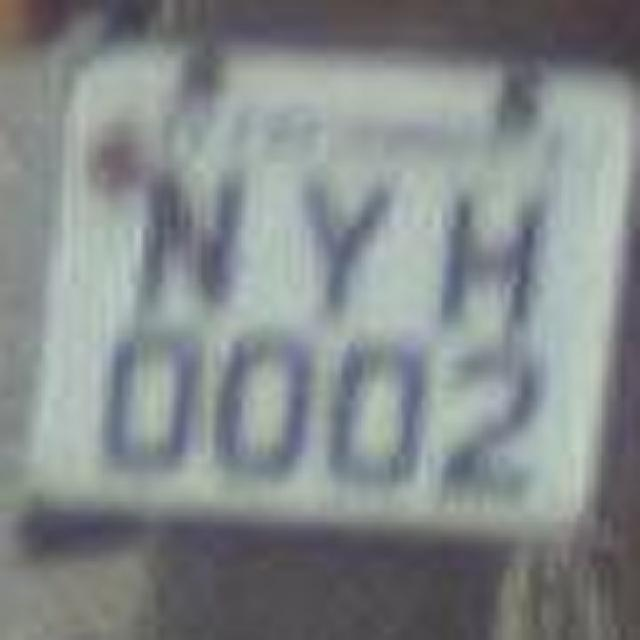0: (96, 315, 216, 500), (216, 308, 324, 500), (328, 320, 440, 505)
2: (435, 320, 560, 500)
N: (416, 160, 536, 328)
Y: (268, 151, 392, 324)
